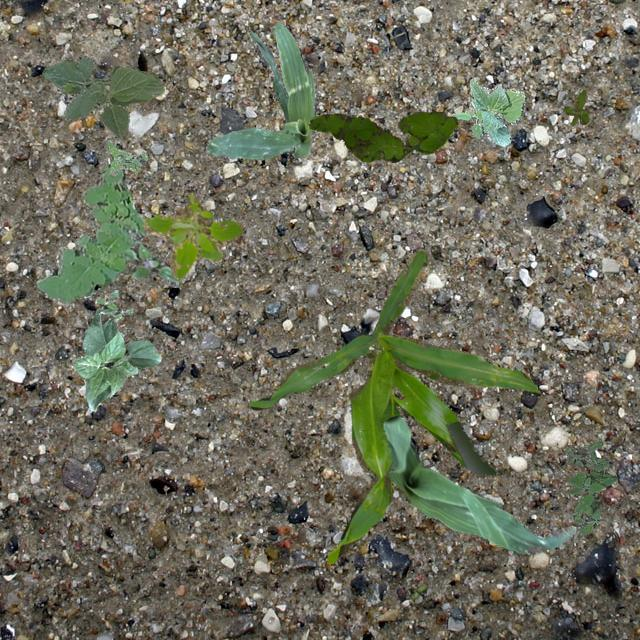crop: (250, 247, 540, 564), (382, 414, 574, 552), (205, 20, 318, 158), (40, 56, 164, 136), (70, 310, 160, 410), (449, 78, 524, 146)
weed: (35, 162, 144, 302), (142, 192, 242, 280), (308, 110, 456, 162), (564, 440, 616, 538), (124, 244, 182, 282), (106, 140, 146, 176), (95, 288, 134, 322), (562, 88, 588, 125)
